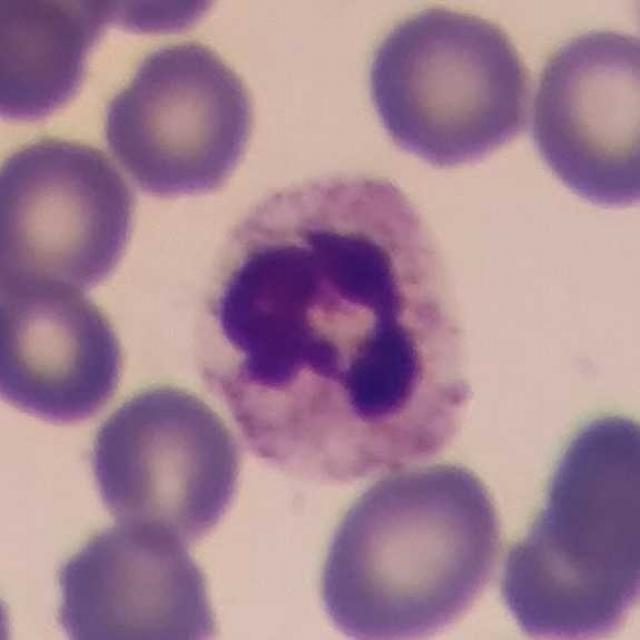Neutrophil: (182, 154, 486, 498)
RBC: (306, 455, 510, 640), (356, 0, 539, 170), (81, 377, 248, 551), (97, 36, 265, 202), (0, 129, 142, 301), (42, 514, 230, 640), (521, 21, 640, 215), (0, 269, 134, 430), (486, 500, 640, 640), (539, 397, 640, 575), (0, 0, 96, 129), (0, 1, 121, 58), (68, 0, 233, 39)
